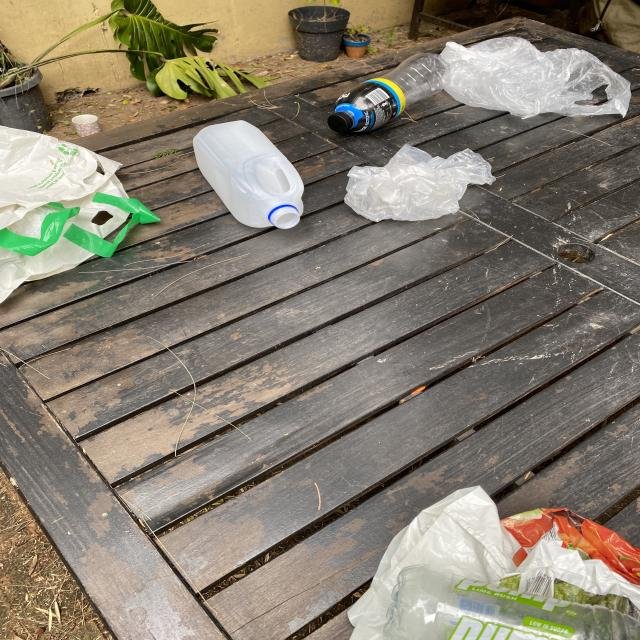bag: (350, 486, 640, 613), (0, 125, 161, 302), (440, 37, 632, 119), (344, 144, 496, 222)
bottle: (384, 564, 640, 640), (192, 120, 304, 230), (327, 52, 451, 134)
cup: (72, 114, 101, 138)
